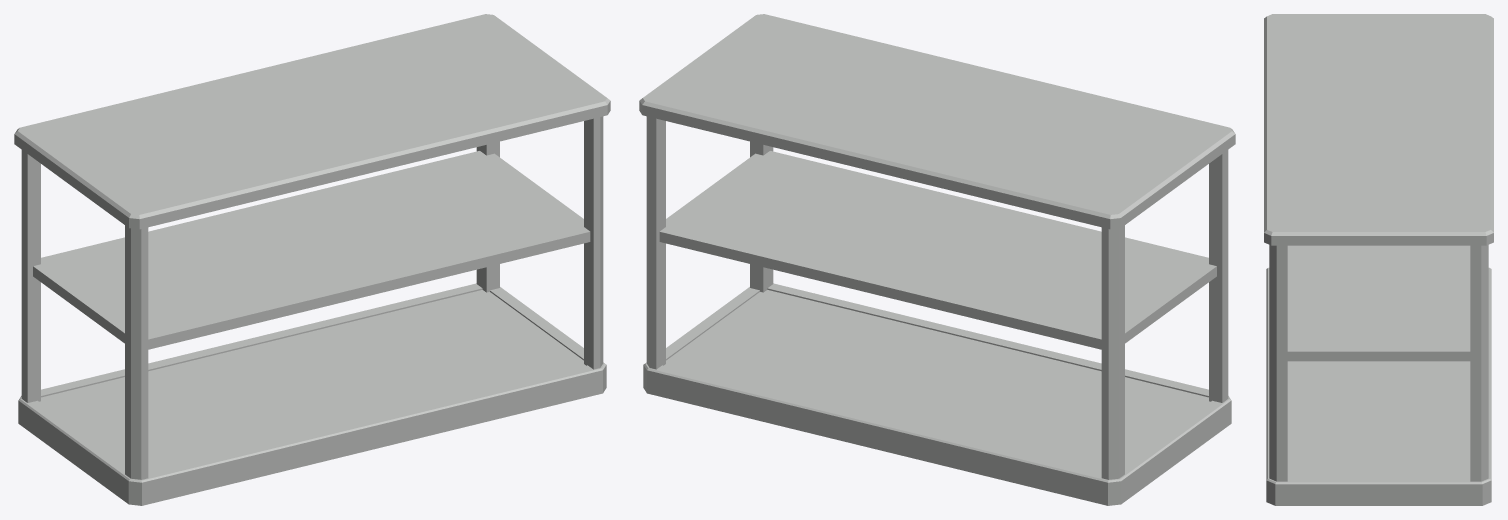
The model's file is SM_Cart_Case_01.fbx.
3 renders of one model, left to right at view 1: azimuth 30°, elevation 25°; view 2: azimuth 150°, elevation 25°; view 3: azimuth 270°, elevation 25°, orthographic. The views are drawn at different scales.
Parts seen in each view (by area): view 1: SM_Cart_Case_01; view 2: SM_Cart_Case_01; view 3: SM_Cart_Case_01.
Part boxes in pixels (bbox=[...]): SM_Cart_Case_01: bbox=[14, 14, 610, 505]; SM_Cart_Case_01: bbox=[639, 14, 1235, 505]; SM_Cart_Case_01: bbox=[1264, 14, 1493, 505].
Bounding box in the file's own units: 1.43 × 0.827 × 0.63.
Materials: 1 (1 with a texture image).
